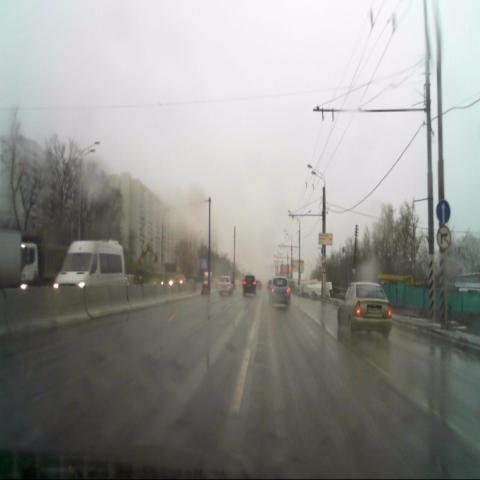3_18: (437, 225, 451, 250)
